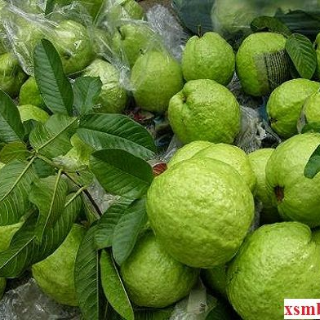oi: (144, 156, 252, 268), (168, 77, 241, 145)
